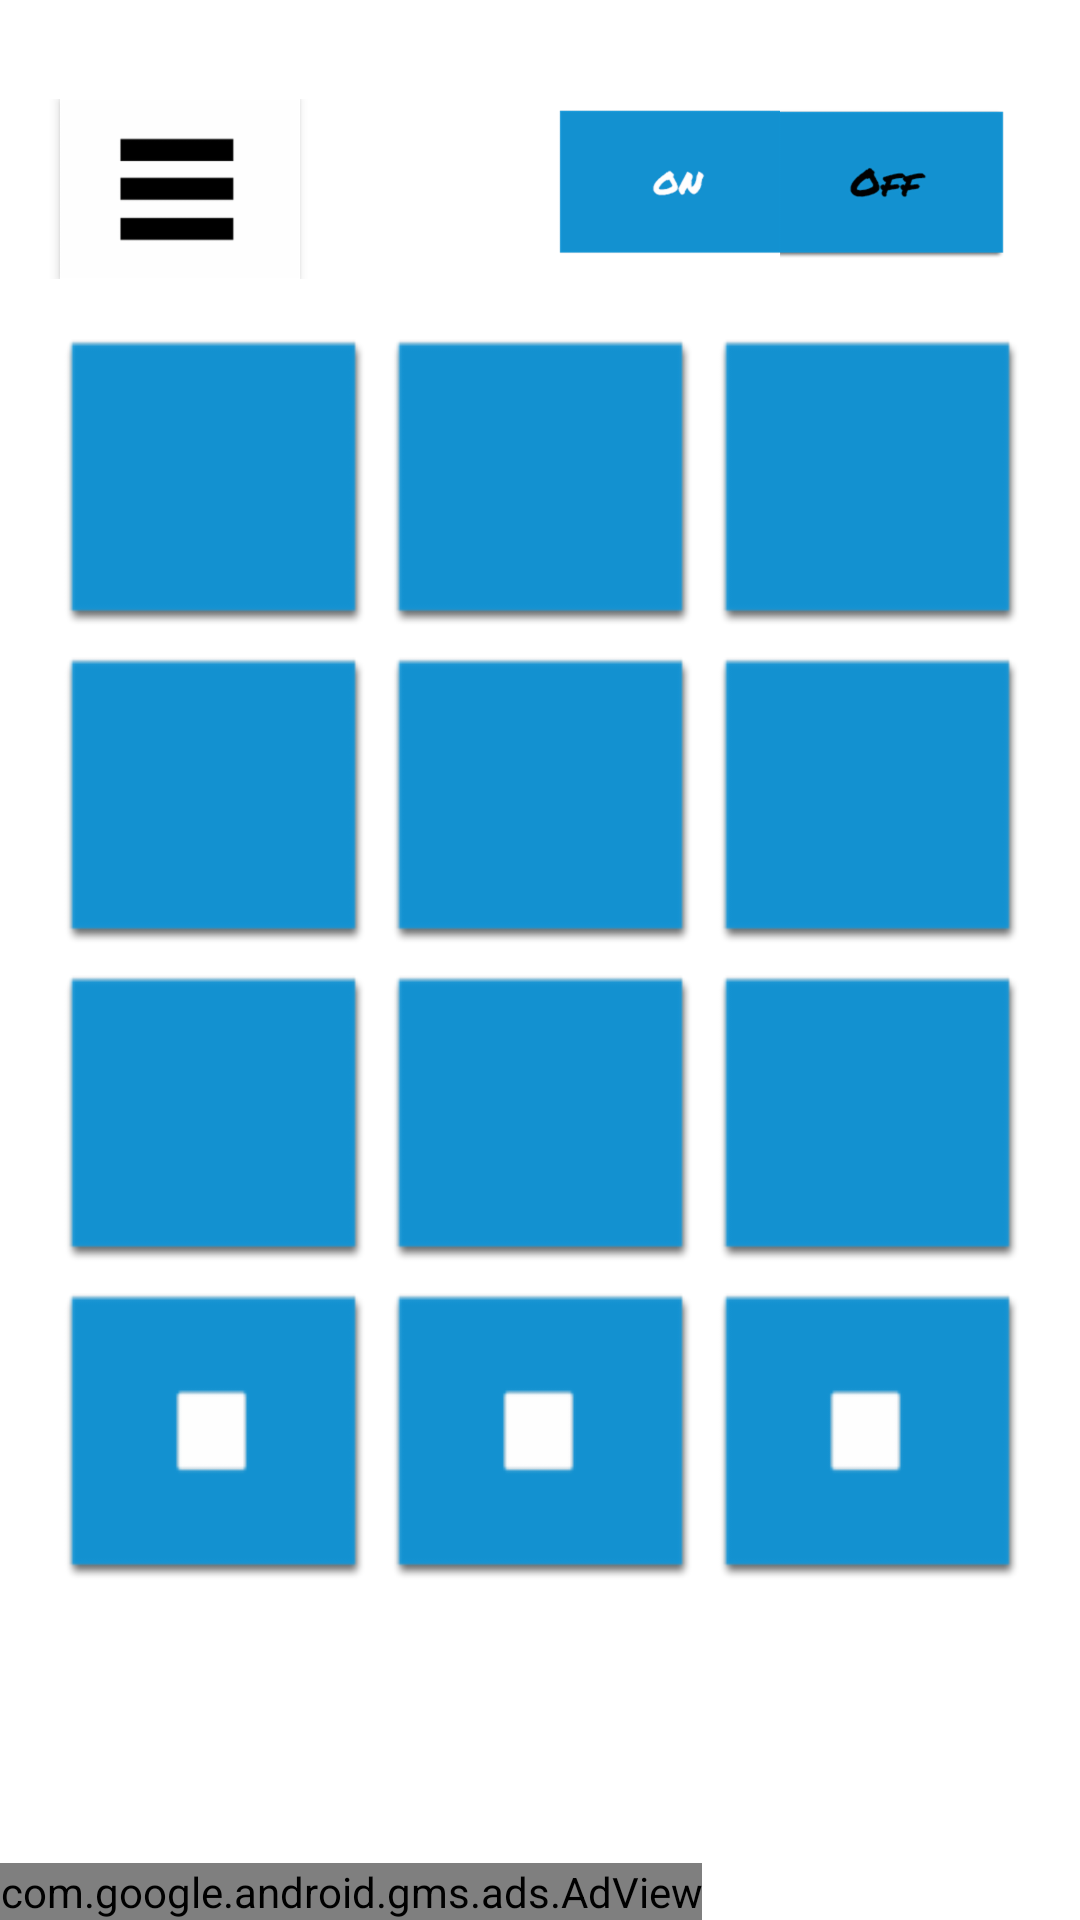

Named icons in this screenshot (1080x1920) and their centers, (x,y):
hamburger: (177,189)
stop: (215,1435), (542,1435), (869,1435)
